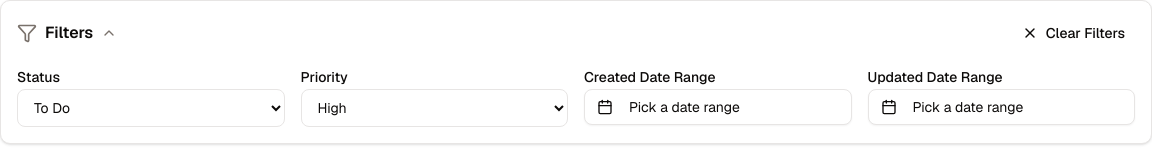
Test: TaskFilterPanel › expand/collapse functionality › shows filter count badge when collapsed and filters are active
Click the filter header to collapse
Click the button "Filters": click(67, 33) x1=17 y1=21 x2=117 y2=45
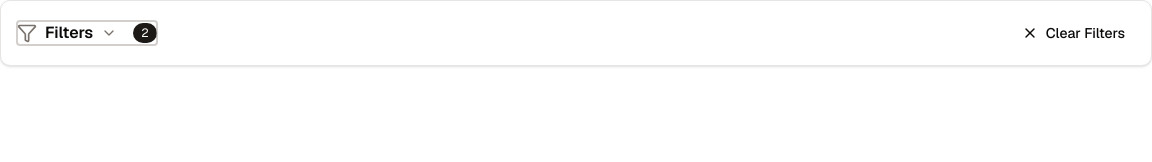
expect the text "2" is shown: met, box x1=133 y1=23 x2=157 y2=43
